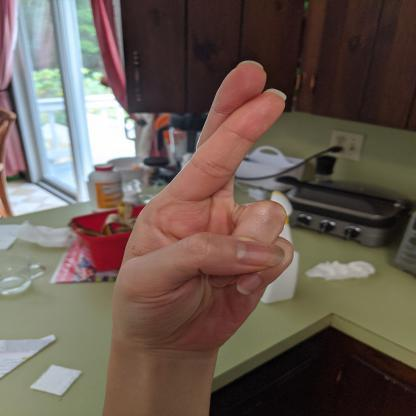R: (104, 57, 302, 362)
